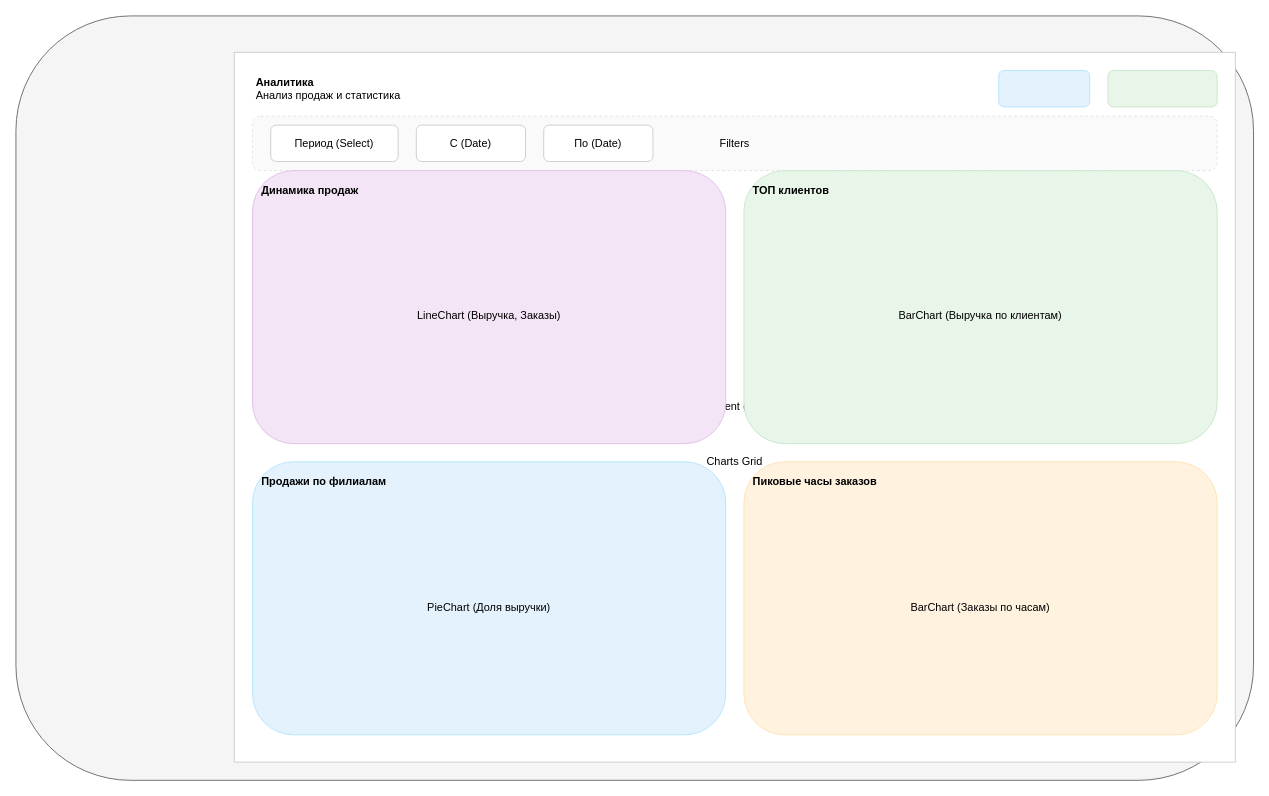
Image size: 1269x796. Some labels were removed from this diagram. Each missing label, with the centre of its shape:
Обновить: (x=1044, y=88)
Экспорт отчета: (x=1162, y=88)
